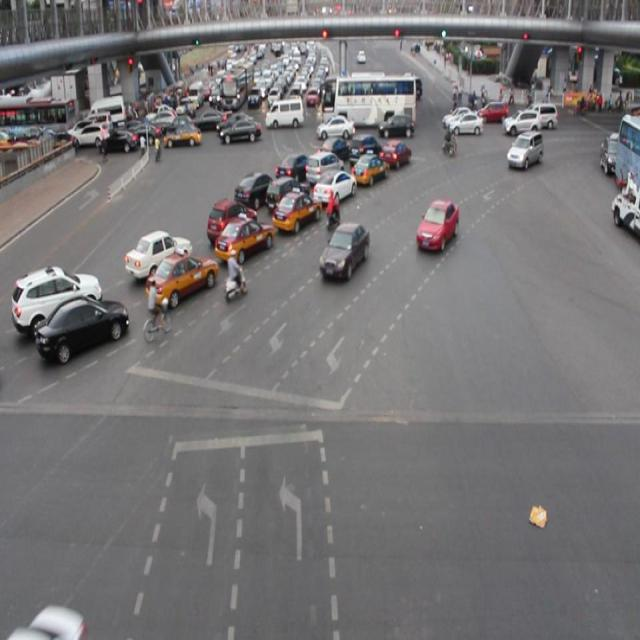car: (13, 268, 102, 334), (36, 298, 129, 356), (144, 251, 217, 306), (125, 228, 192, 278), (319, 225, 368, 279), (217, 216, 274, 262), (416, 198, 457, 255), (206, 198, 256, 242), (272, 189, 318, 231), (265, 175, 309, 213), (505, 131, 544, 171), (313, 169, 355, 206), (350, 149, 387, 188), (235, 171, 274, 207), (306, 151, 342, 186), (318, 134, 352, 168), (348, 133, 381, 167), (379, 137, 409, 171), (277, 152, 309, 182)
